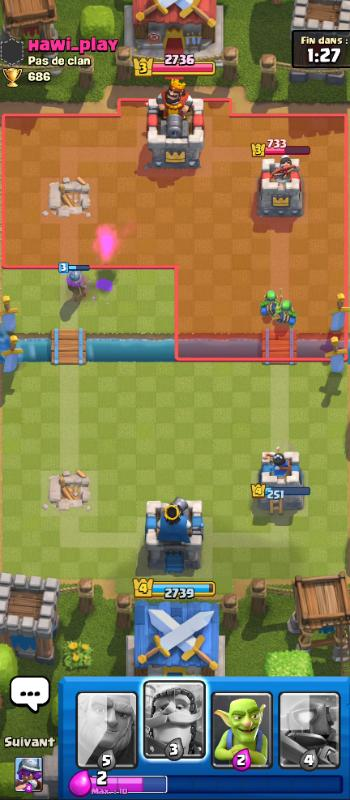gobelin_lances: (272, 294, 298, 333), (262, 289, 281, 320)
mousquetaire: (61, 269, 91, 305)
